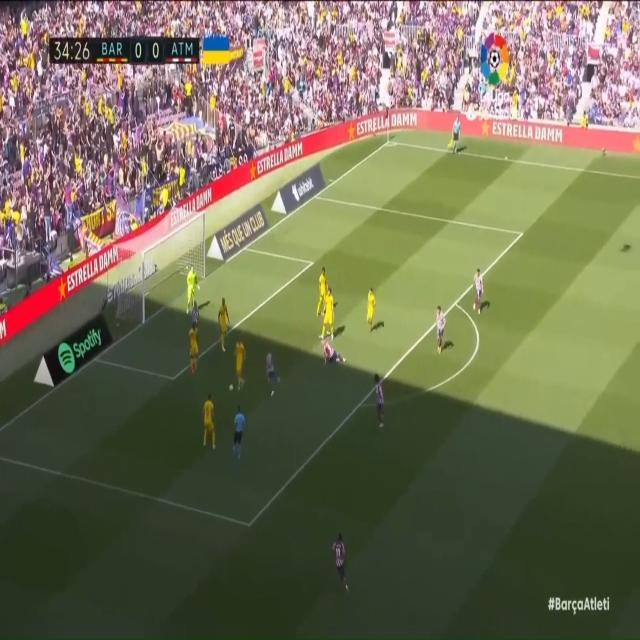ball: (228, 381, 235, 394)
goalkeeper: (185, 261, 197, 317)
player: (327, 525, 352, 594), (261, 345, 282, 402), (369, 371, 387, 432), (316, 334, 350, 366), (197, 380, 212, 448), (471, 261, 487, 323), (431, 303, 448, 358), (319, 283, 334, 337), (314, 259, 328, 312), (364, 284, 380, 330), (217, 293, 230, 349), (189, 298, 203, 350), (185, 320, 199, 370), (234, 340, 247, 391)
referee: (232, 403, 248, 464), (450, 112, 463, 160)
